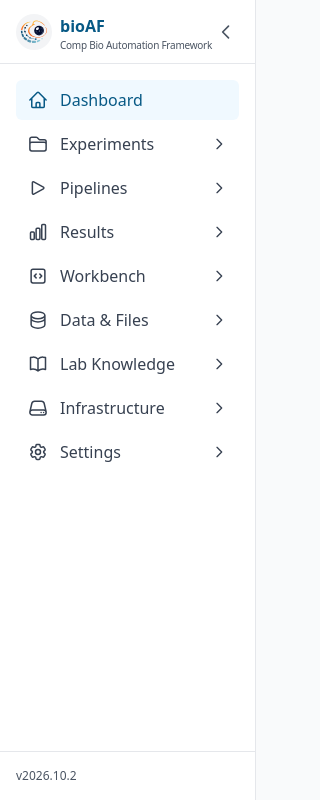
Test: Sidebar single-expanded behavior › expanding a second section collapses the first
The width and height of the screenshot is (320, 800).
Click the button "Pipelines" at (128, 188), box [16,168,239,208]
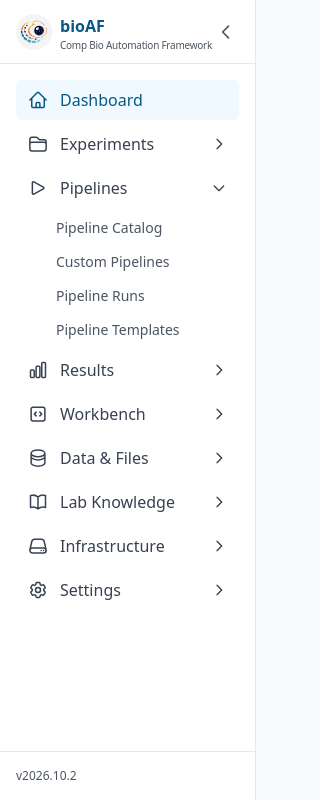
Now the element with test id "children-Pipelines" is shown, box [56,218,180,339]
Click the button "Workbench" at (128, 414), box [16,394,239,434]
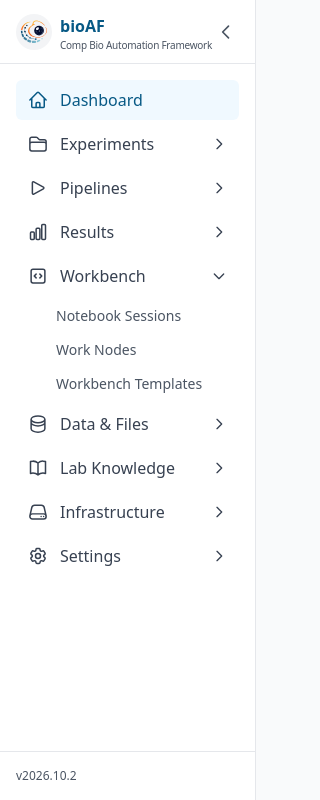
Now the element with test id "children-Workbench" is shown, box [56,306,202,393]
Now the element with test id "children-Pipelines" is gone
